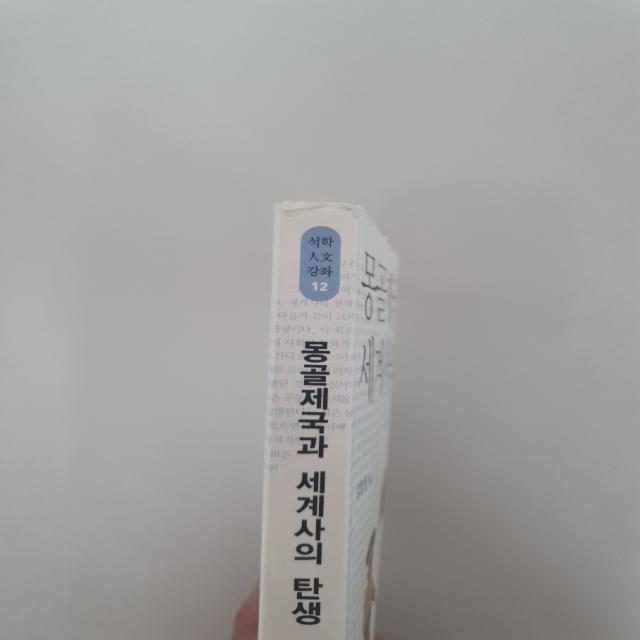Ripped: (261, 195, 329, 222), (331, 197, 370, 223)
